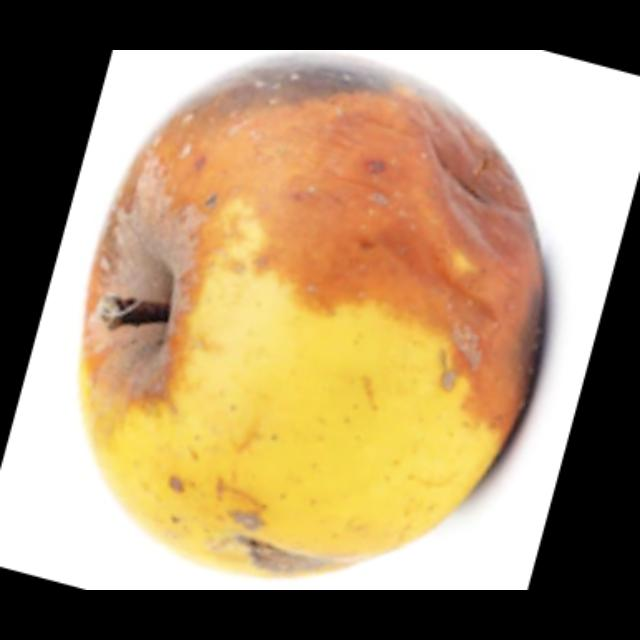Apel Tidak Segar: (77, 57, 555, 581)
